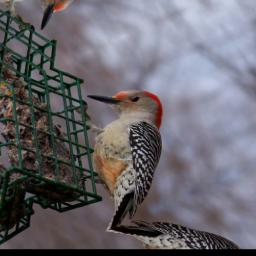Woodpecker: (36, 72, 217, 228)
